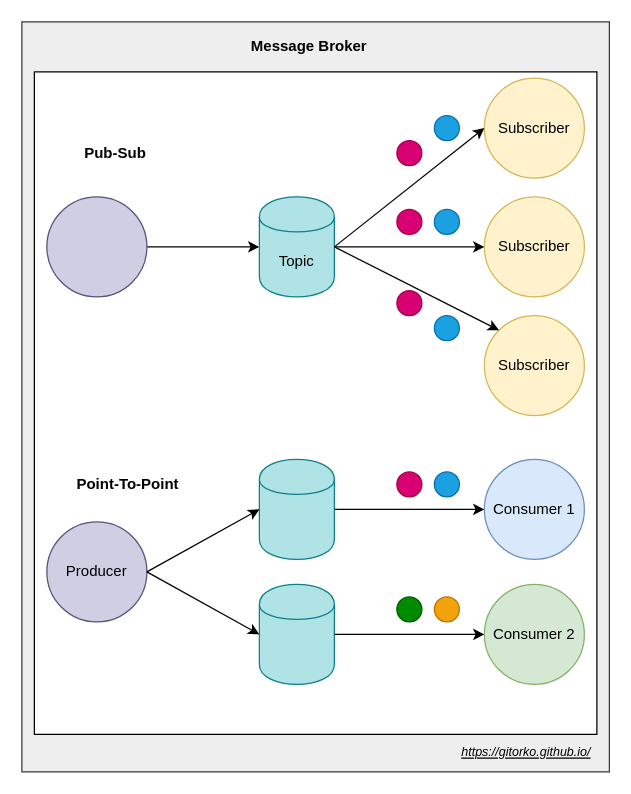
This 631x794 diagram has some shape labels left out. Each missing label, with the centre of its shape:
Publisher: the point at 96,246
Queue 1: the point at 296,508
Queue 2: the point at 296,633
